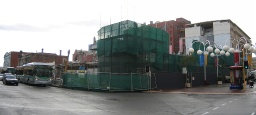bus: (21, 63, 54, 87)
car: (2, 74, 19, 86)
